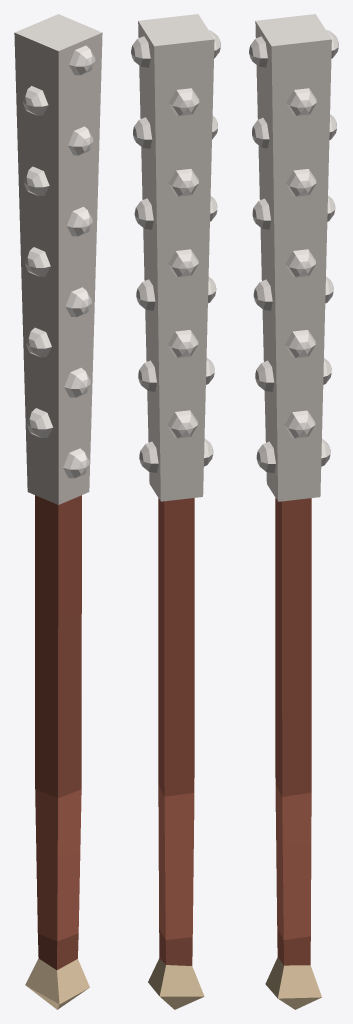
Rendered from mace_4.glb.
3 views of the same model, side by side, from view 1: azimuth 90°, elevation 25°; view 2: azimuth 150°, elevation 25°; view 3: azimuth 330°, elevation 25° (orthographic).
Visible parts, largest first — view 1: mace_4.001; view 2: mace_4.001; view 3: mace_4.001.
Boxes of the visible parts, <box> form: mace_4.001: <box>14,14,102,1009</box>; mace_4.001: <box>131,14,220,1009</box>; mace_4.001: <box>249,14,338,1009</box>.
Size of the model in its own units: 0.0817 by 1 by 0.0817.
1 material, 1 textured.
